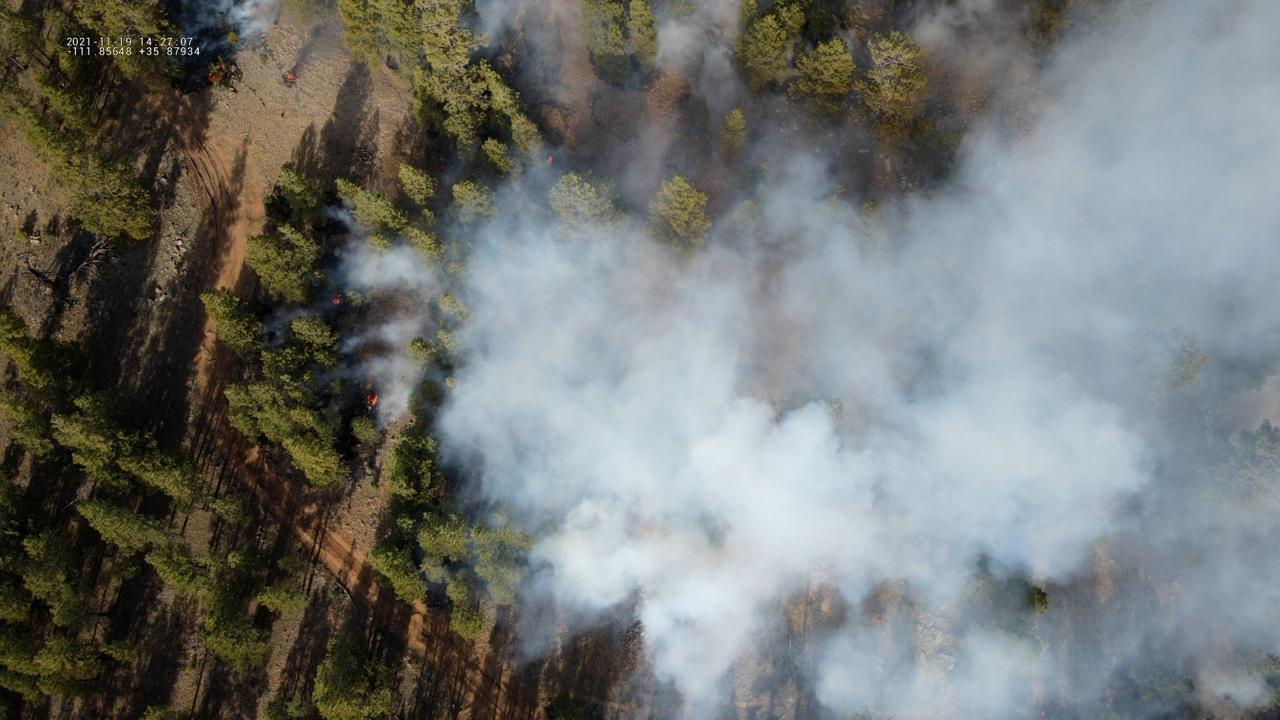fire: (205, 70, 225, 83), (366, 392, 379, 408), (285, 72, 296, 84), (545, 155, 555, 165), (332, 297, 342, 305)
smoke: (266, 0, 1280, 720), (161, 0, 277, 89)
